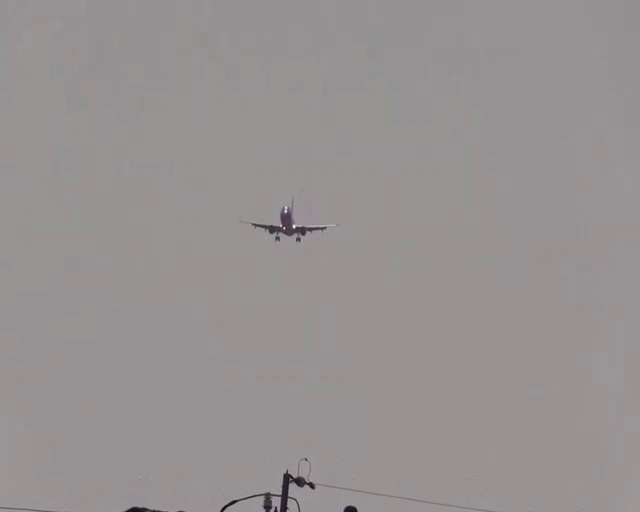AIRPLANE: (239, 196, 338, 243)
